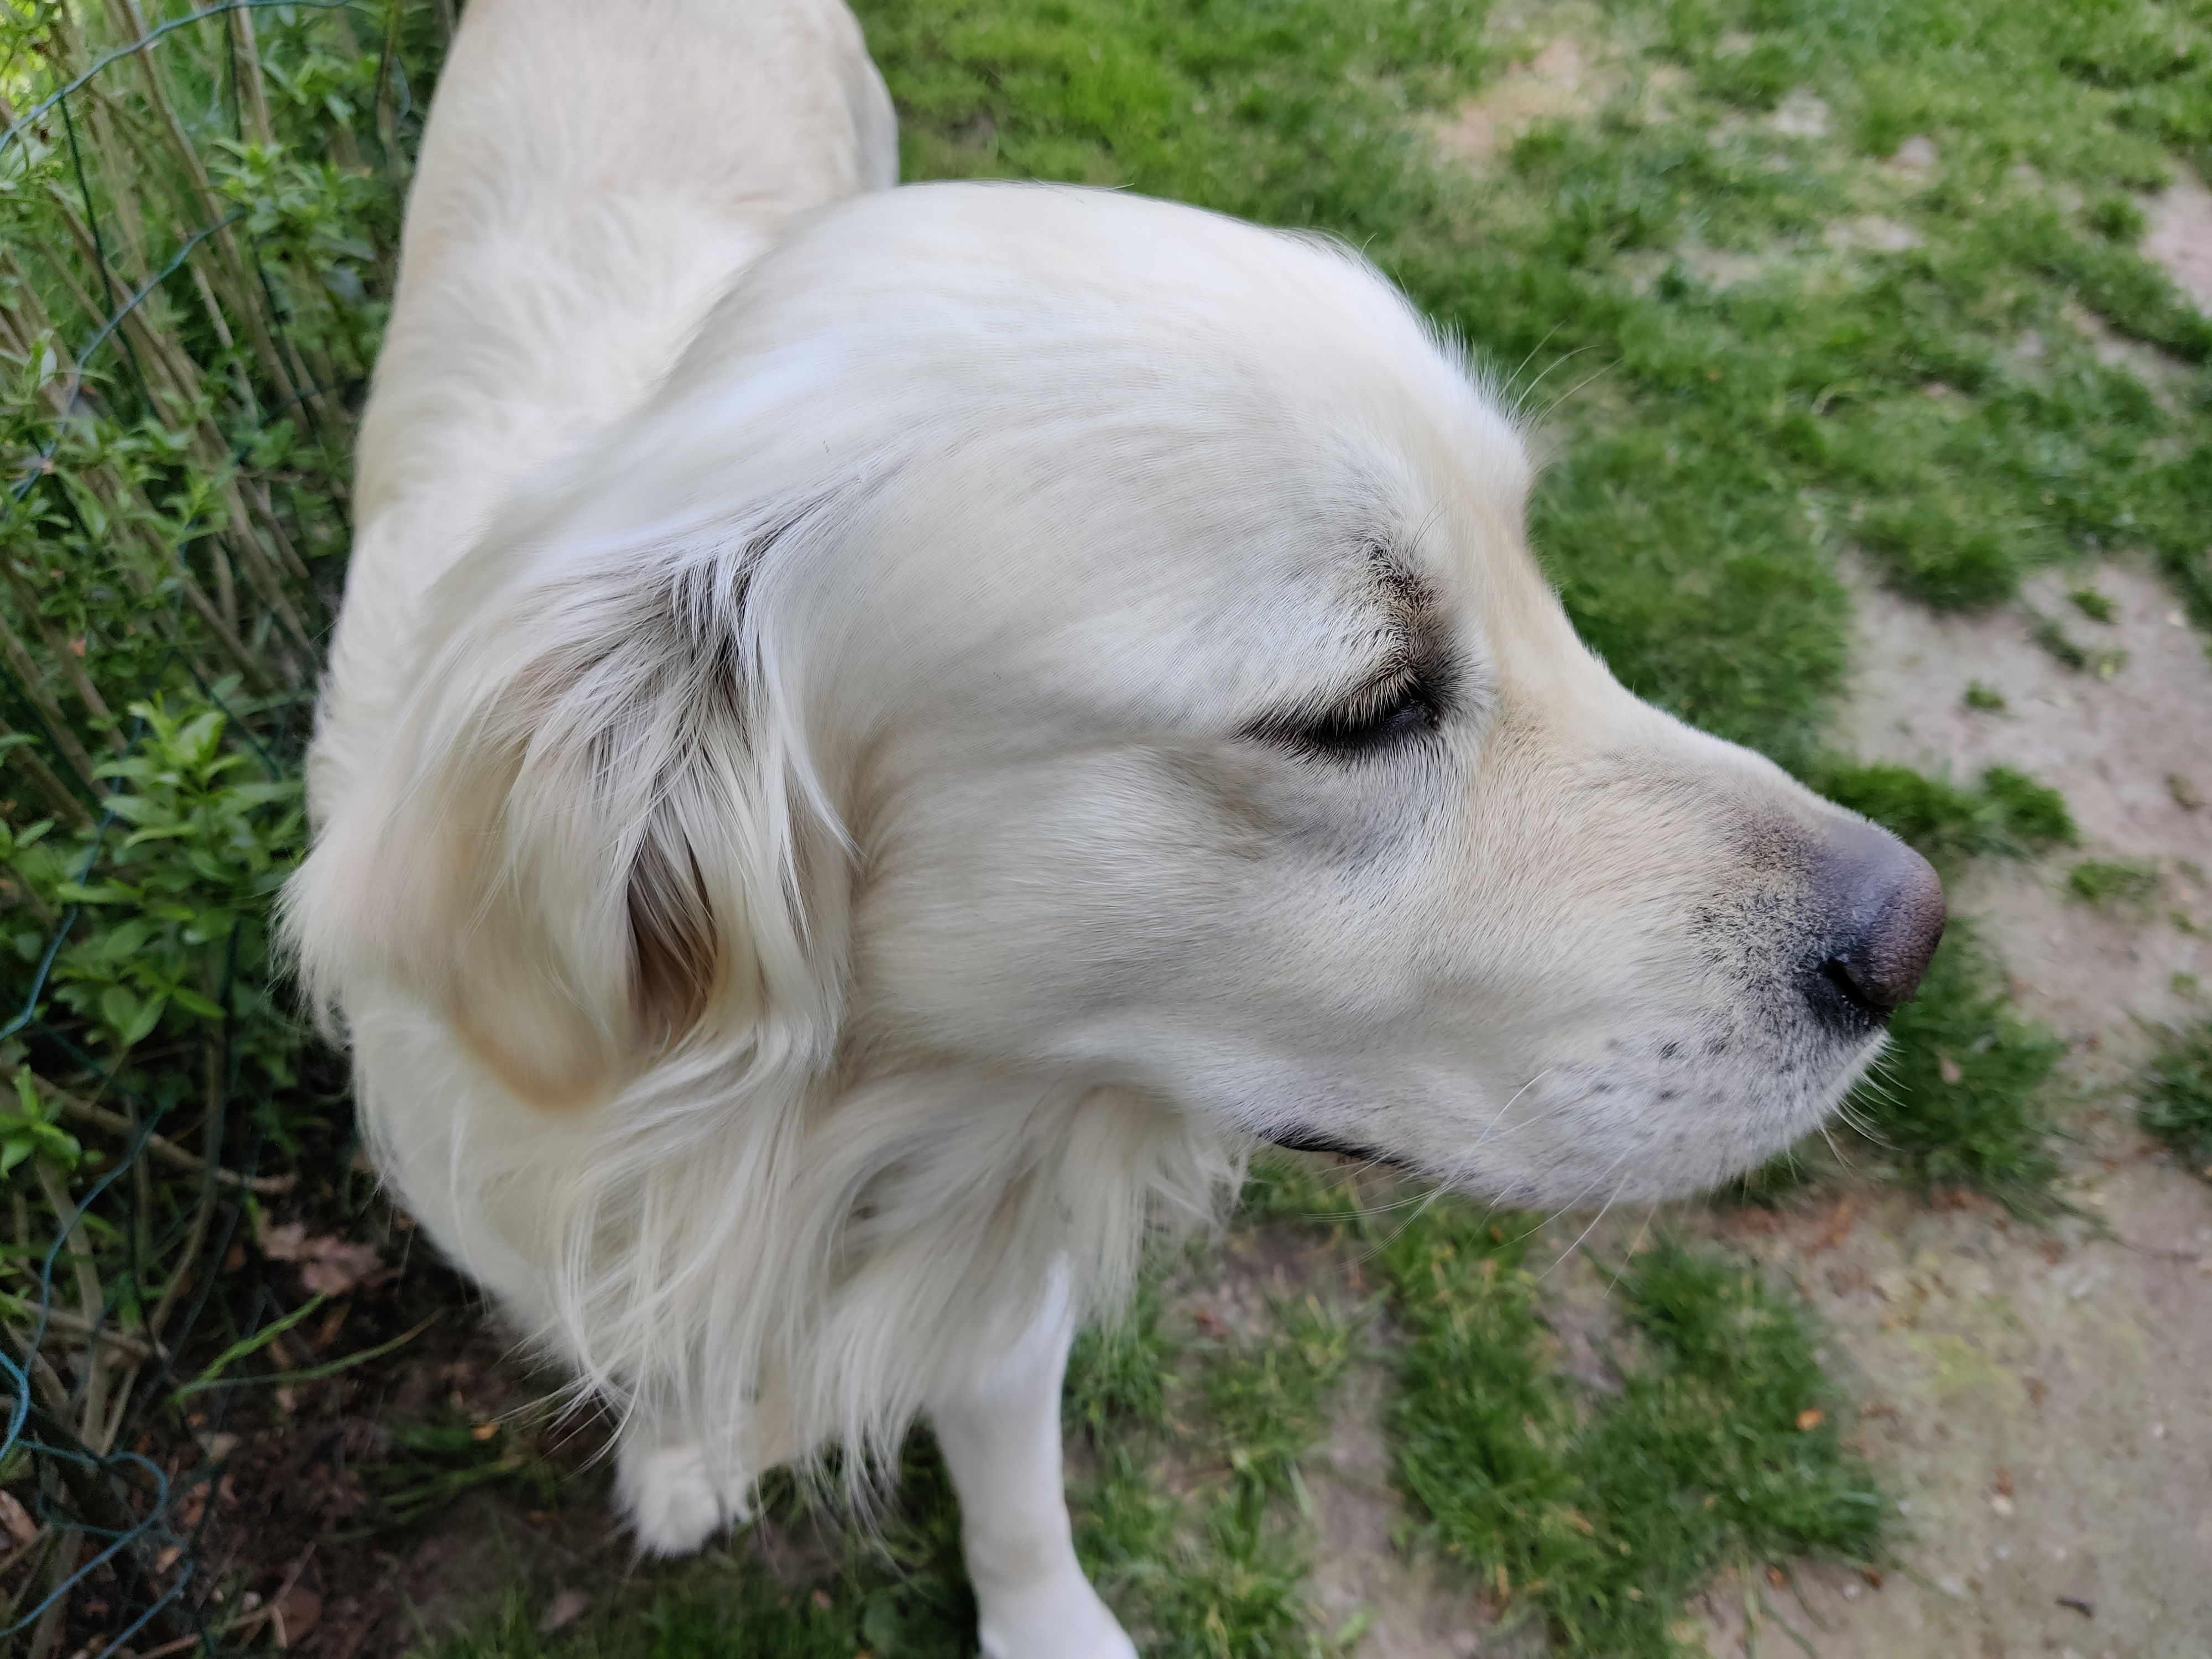Dog: (263, 0, 1956, 1659)
